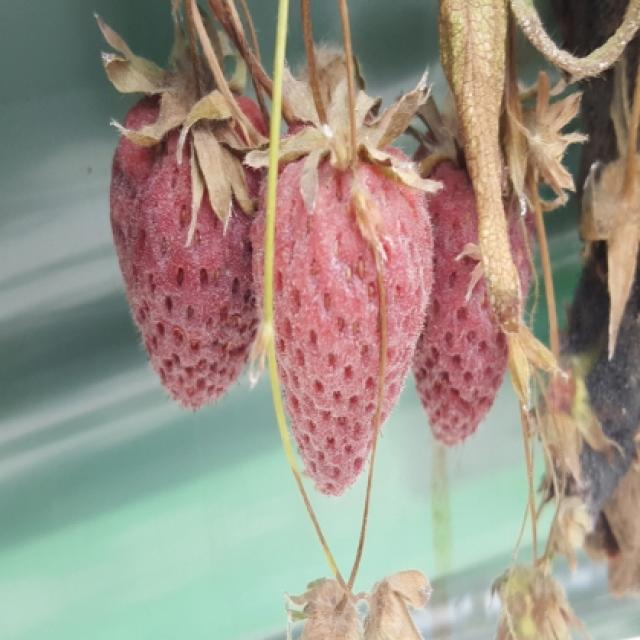Powdery Mildew Fruit: (250, 104, 434, 500), (110, 85, 278, 413), (408, 157, 537, 444)
